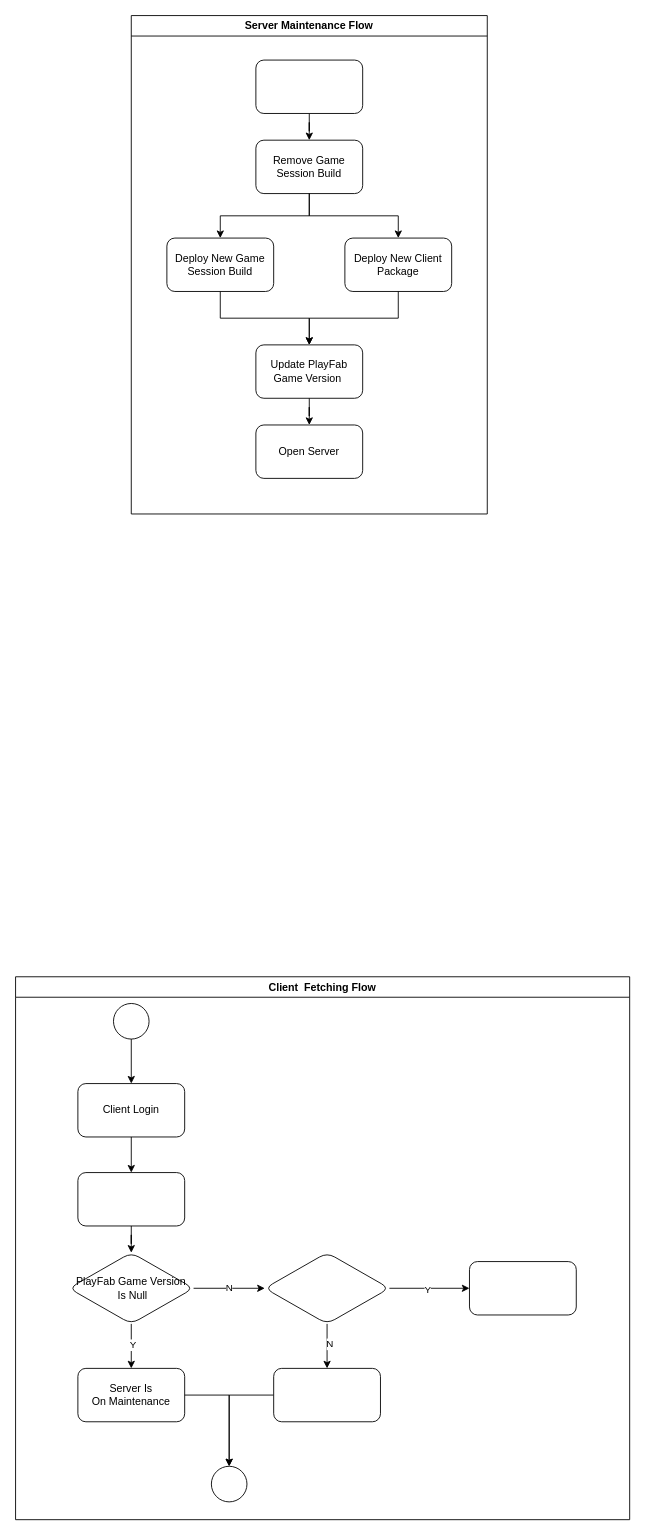
This 645x1535 diagram has some shape labels left out. The centre of each missing label's shape, as x and y in pixels:
"Inform Player To Update Game" belongs at (326,1394).
"Matchmaking" belongs at (522,1288).
"PlayFab Game Version == Local Game Version" belongs at (326,1288).
"Request PlayFab Game Version" belongs at (131,1199).
"Set PlayFab Game Version To Null" belongs at (309,86).
